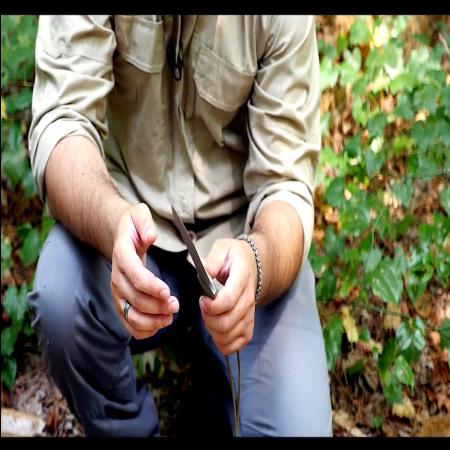long weapon: (168, 200, 253, 344)
